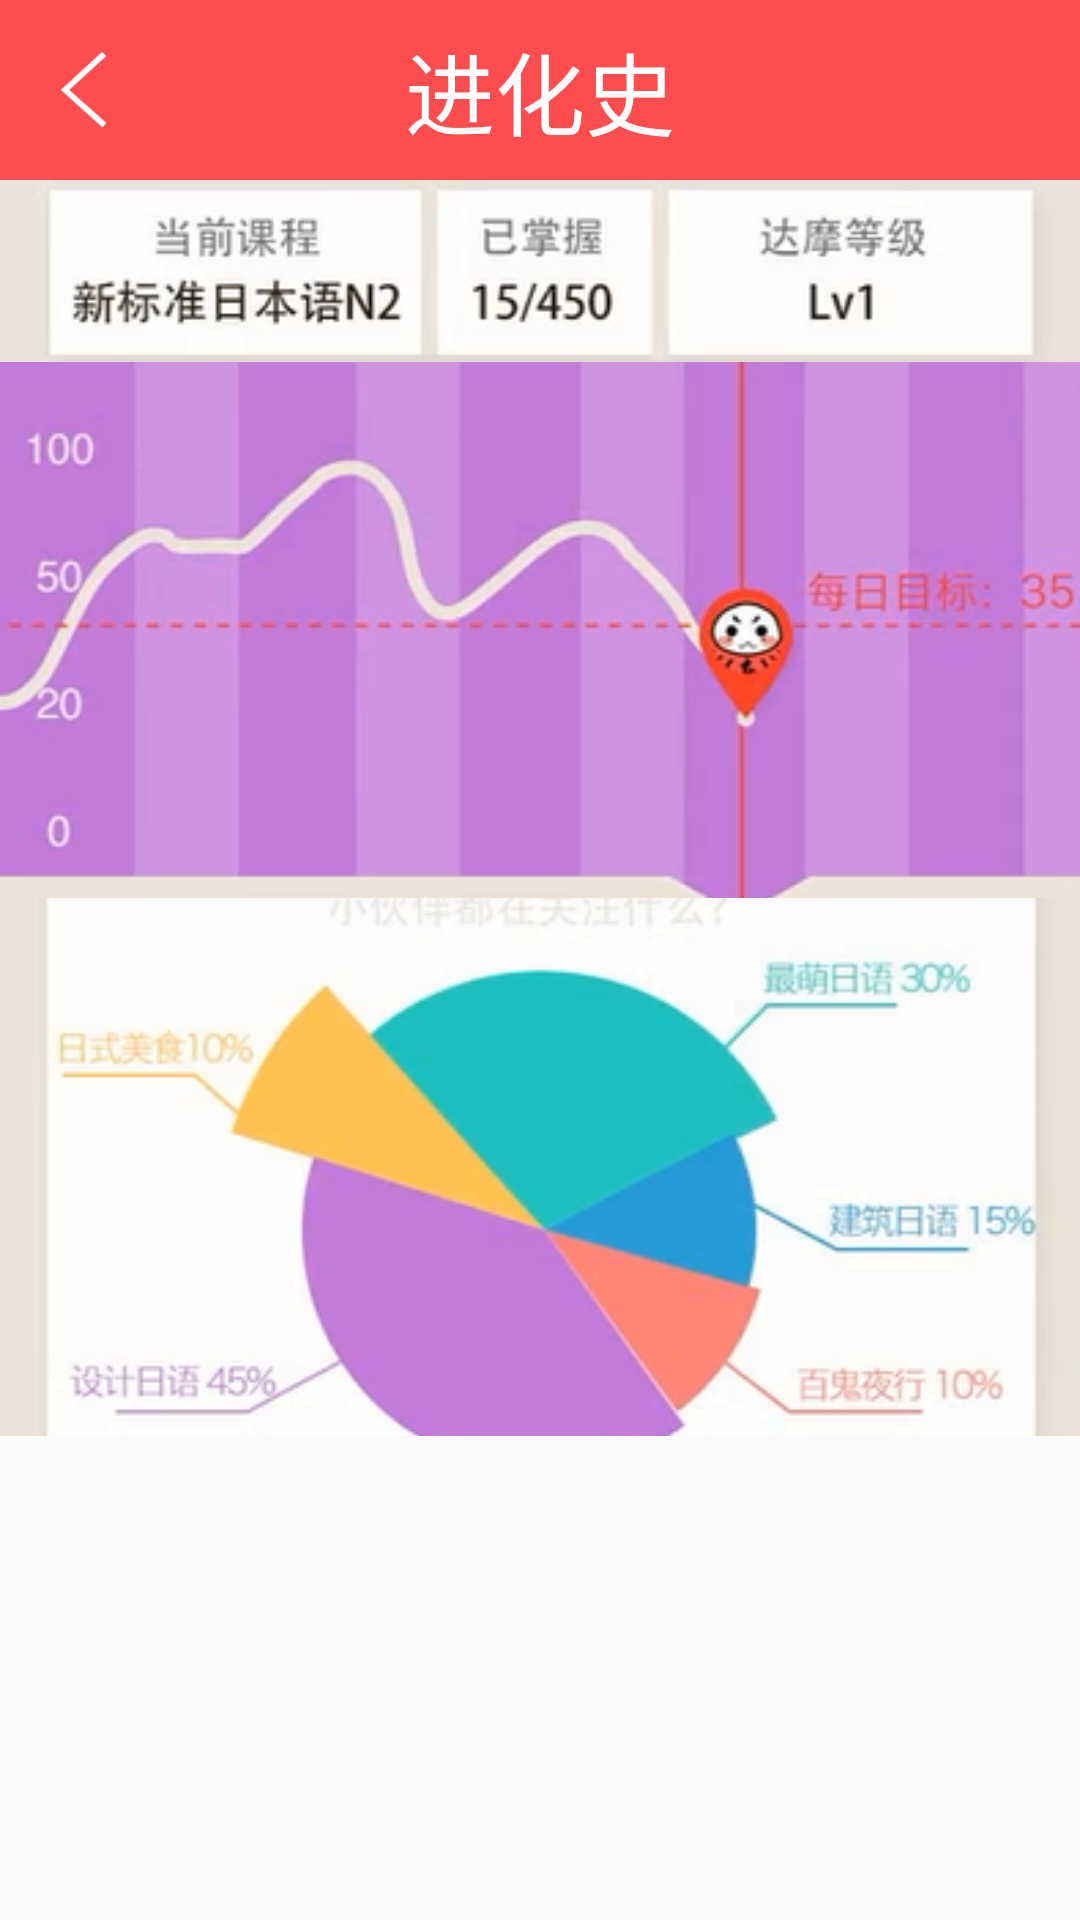

Named icons in this screenshot (1080×1920) and their bounding boxes, bbox(x1, y1, x2, y2):
demo back: bbox(61, 52, 107, 127)
